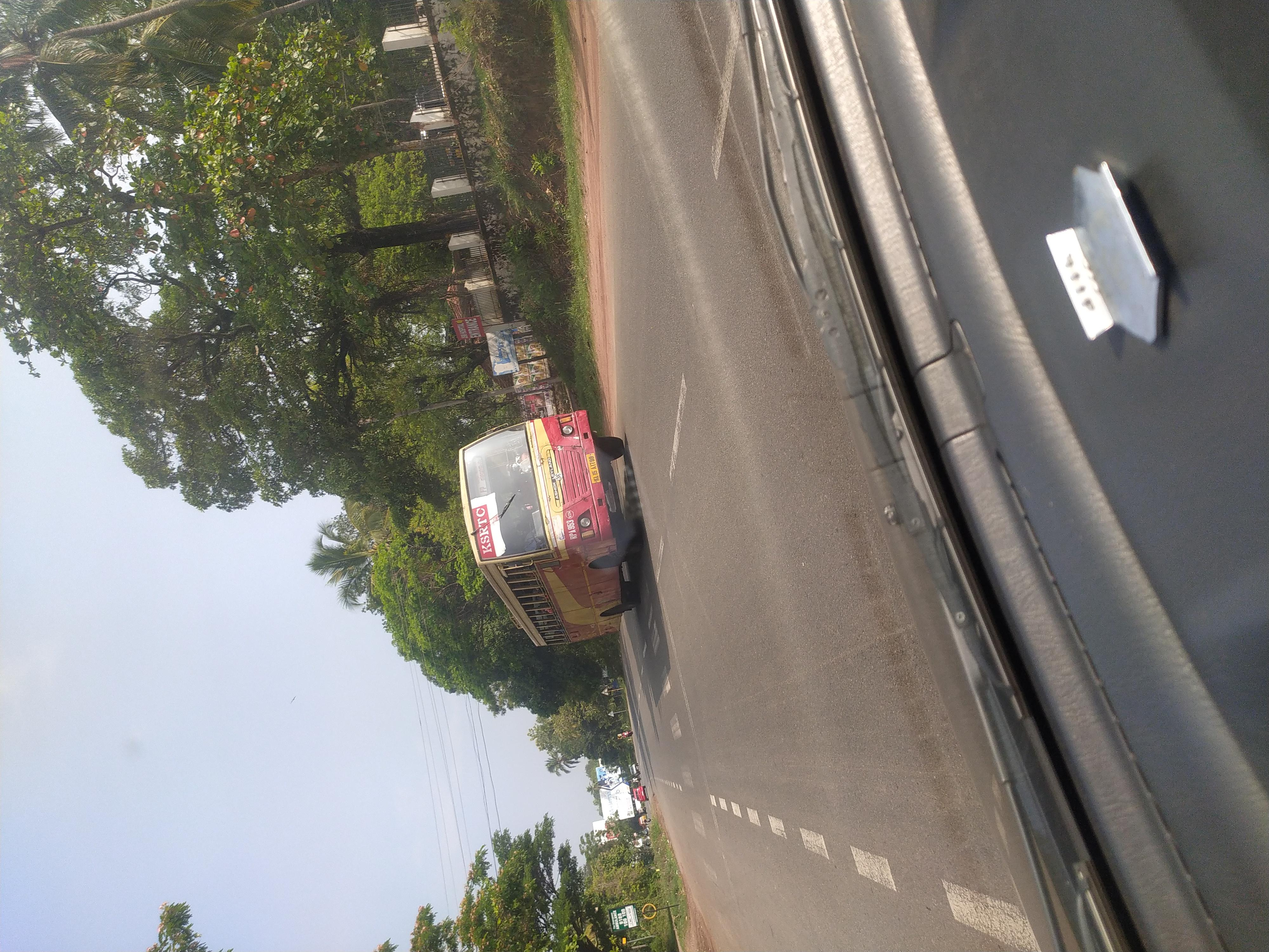license plate: (625, 439, 665, 451)
